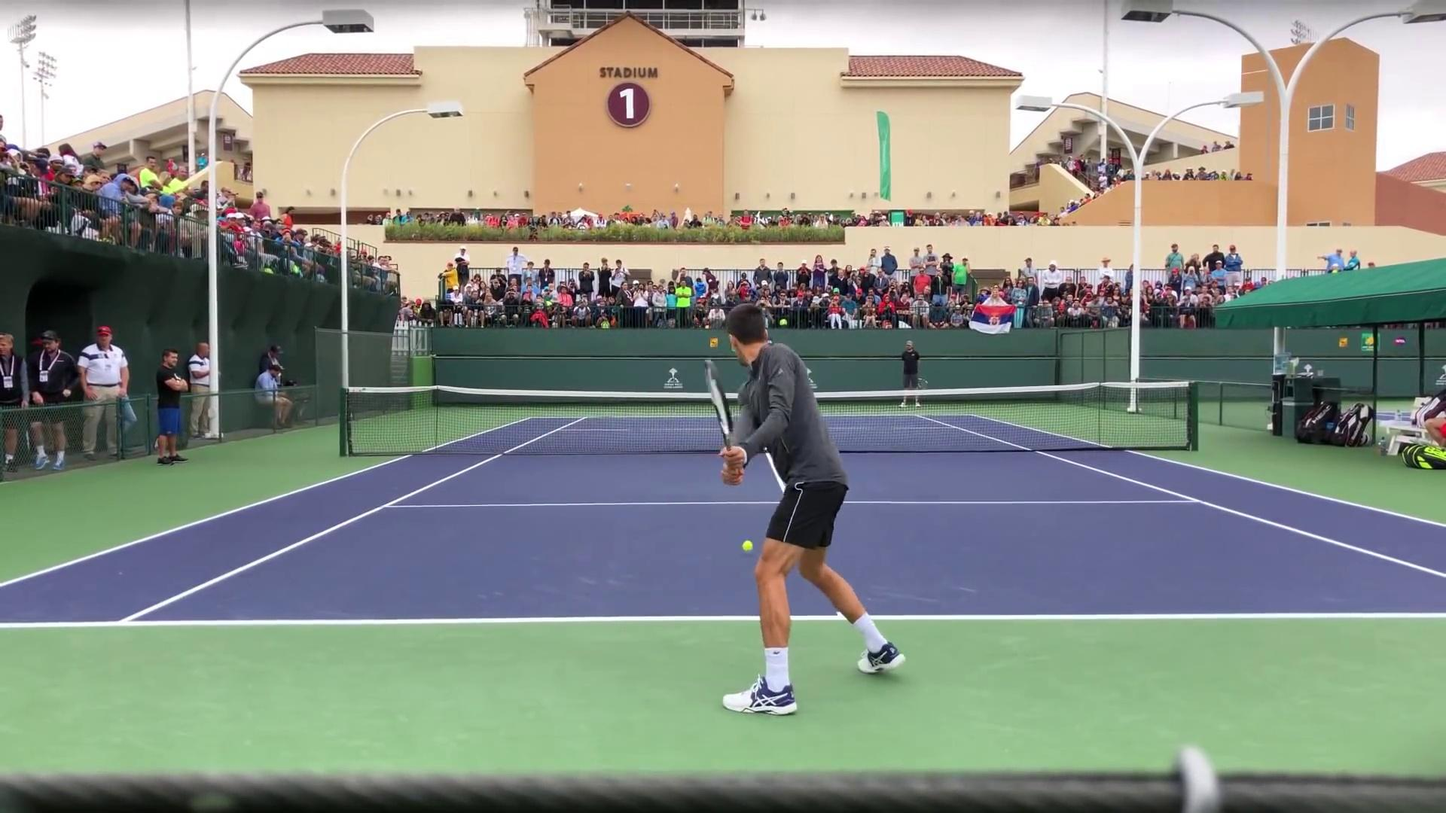ball: (740, 539, 753, 555), (882, 148, 885, 157)
